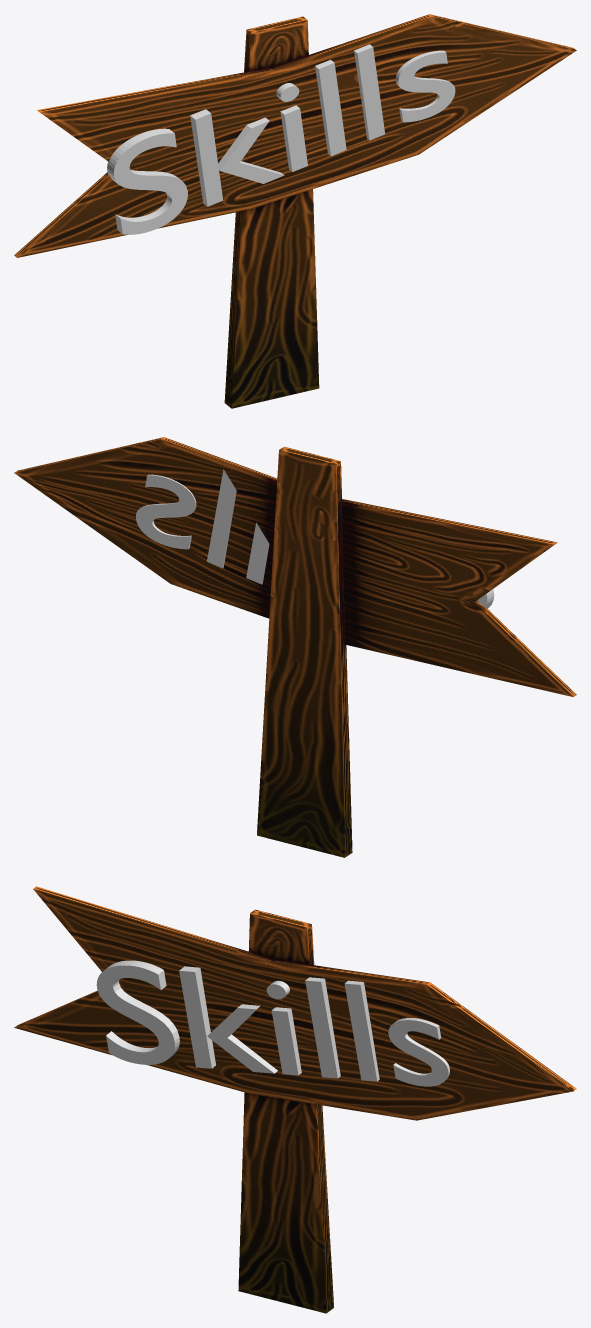
The model's file is skills.glb.
3 views of the same model, one above another, from view 1: azimuth 30°, elevation 25°; view 2: azimuth 150°, elevation 25°; view 3: azimuth 330°, elevation 25° (orthographic). The views are drawn at different scales.
Visible parts, largest first — view 1: sign3__0, Skills; view 2: sign3__0, Skills; view 3: sign3__0, Skills.
Boxes of the visible parts, x1,y1,x2,y2 form: sign3__0: (14,14,576,408); Skills: (107,44,455,234); sign3__0: (14,437,576,857); Skills: (136,469,494,608); sign3__0: (14,886,576,1313); Skills: (96,960,449,1086).
Bounding box in the file's own units: 4.74 × 3.08 × 0.2775.
1 material, 1 textured.
